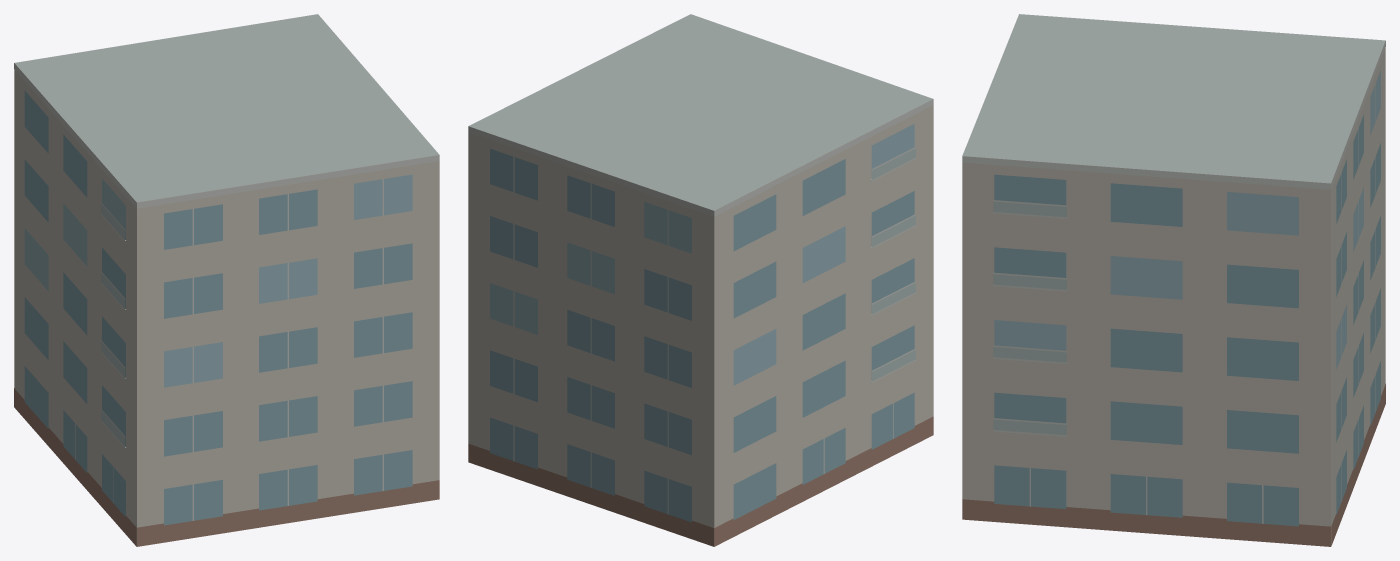
The model's file is survey-upis-32750769.glb.
3 renders of one model, left to right at view 1: azimuth 30°, elevation 25°; view 2: azimuth 150°, elevation 25°; view 3: azimuth 270°, elevation 25°, orthographic. The views are drawn at different scales.
Parts seen in each view (by area): view 1: survey-upis-32750769.tmp; view 2: survey-upis-32750769.tmp; view 3: survey-upis-32750769.tmp.
Boxes of the visible parts, x1,y1,x2,y2 form: survey-upis-32750769.tmp: (14, 14, 439, 546); survey-upis-32750769.tmp: (468, 14, 933, 546); survey-upis-32750769.tmp: (962, 14, 1385, 546).
Size of the model in its own units: 13.76 by 13.75 by 14.54.
